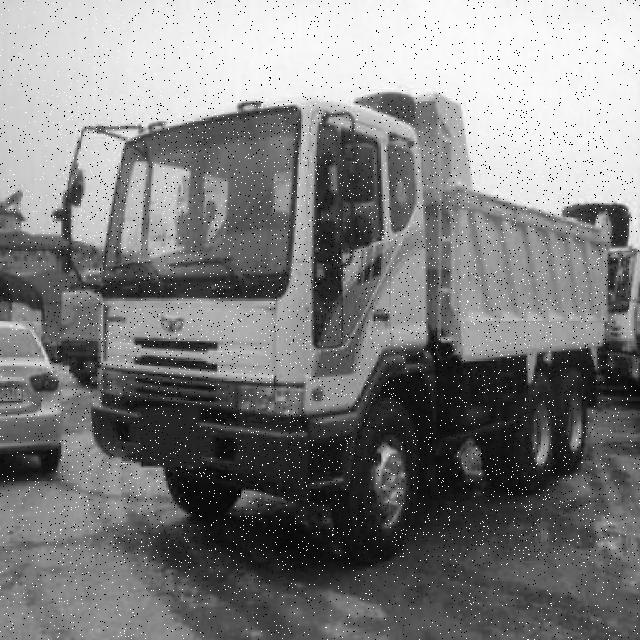Box Truck: (50, 93, 612, 566)
